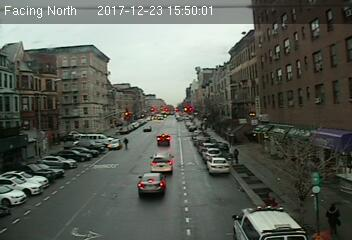car: (136, 170, 166, 198), (148, 153, 175, 176), (205, 158, 228, 174), (156, 133, 171, 146), (107, 139, 123, 149)
police: (229, 202, 309, 240)
